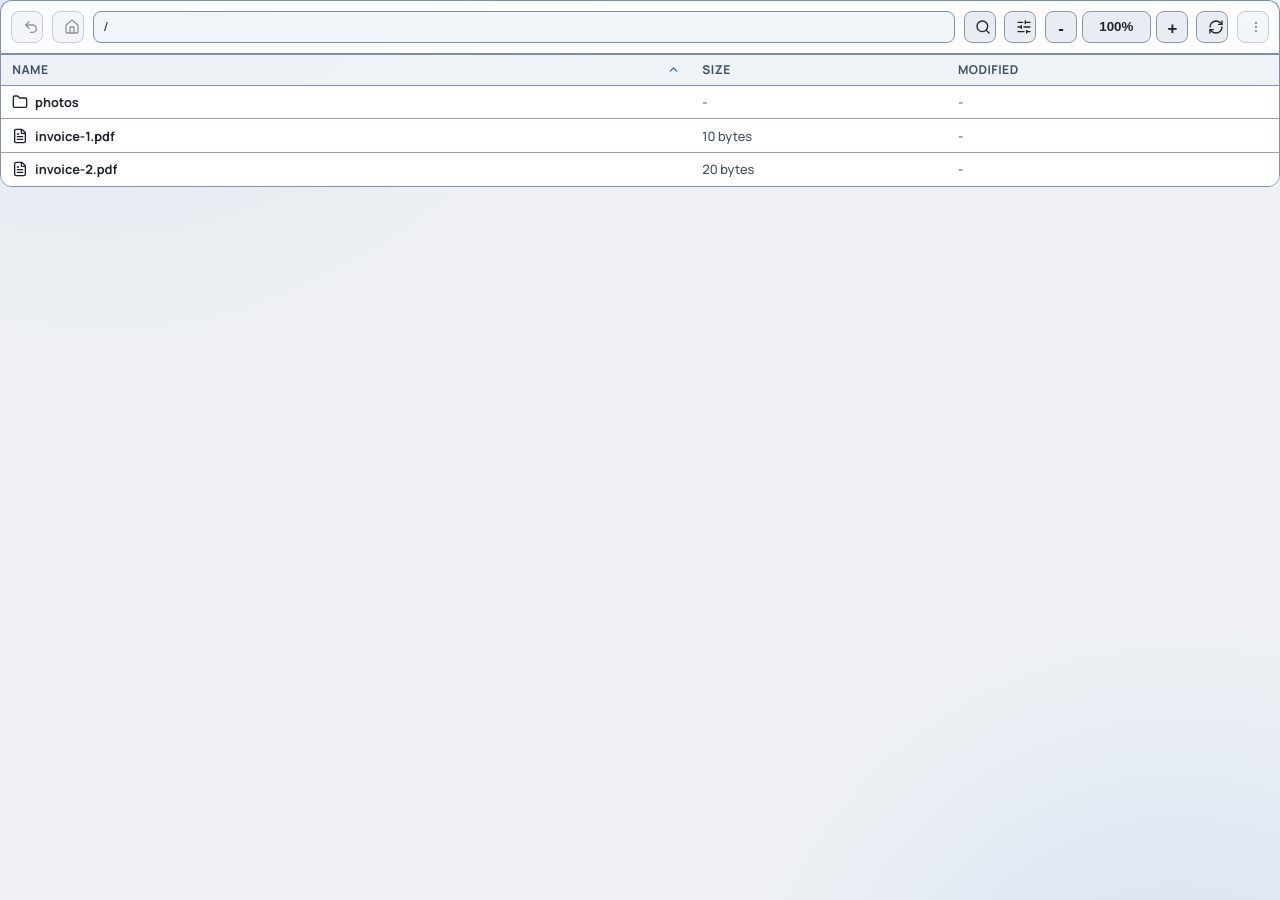
it: BrowserPage sorting and filtering › filters visible files and folders by query
The image size is (1280, 900).
Click the button named "Open filter" at x=980, y=27, box top-left (964, 11), bottom-right (996, 43)
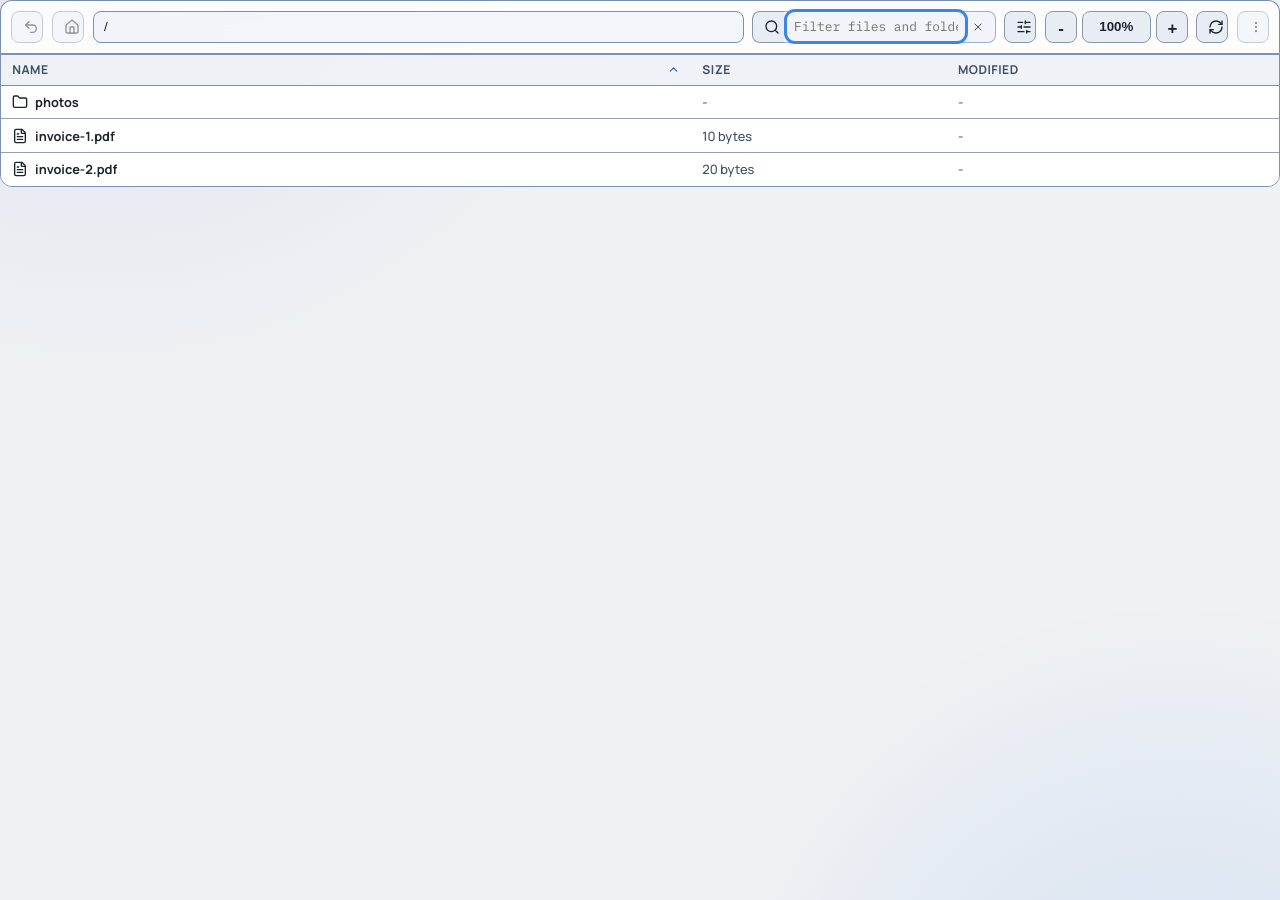
Type "invoice-2" into the field labelled "Filter files and folders" at x=876, y=27, box top-left (789, 14), bottom-right (964, 39)
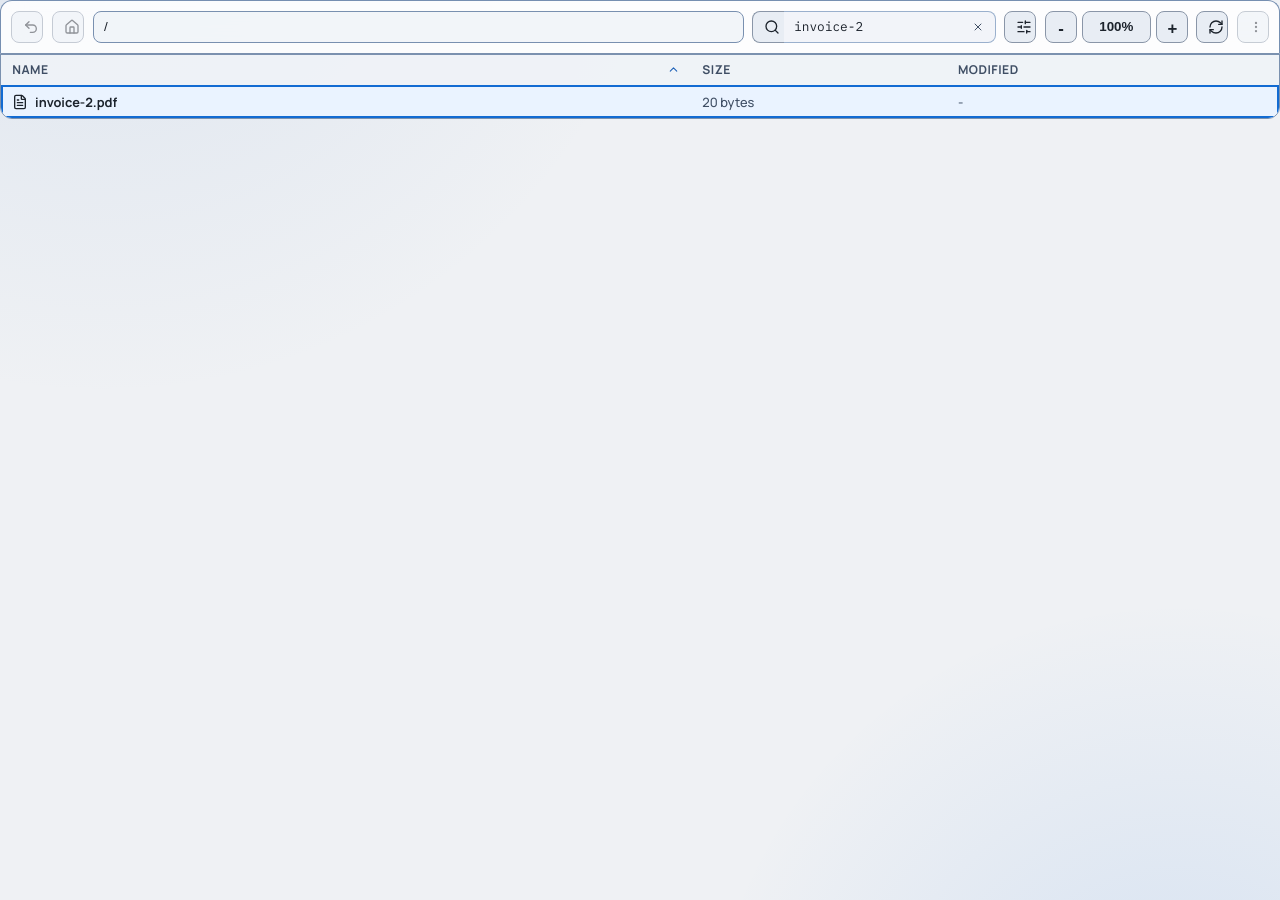
Check: the text "invoice-2.pdf" is shown, box top-left (35, 93), bottom-right (117, 111)
Check: the text "invoice-1.pdf" is gone
Check: the text "photos" is gone
